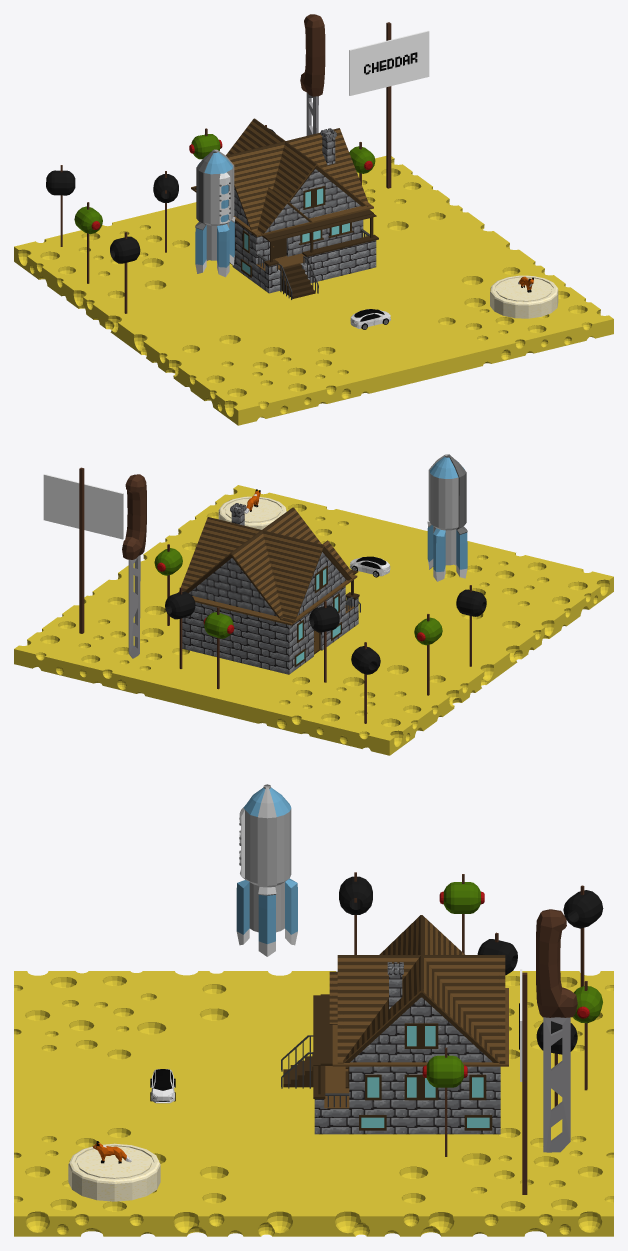
3 views of the same model, one above another, from view 1: azimuth 30°, elevation 25°; view 2: azimuth 150°, elevation 25°; view 3: azimuth 270°, elevation 25° (orthographic). The views are drawn at different scales.
Parts seen in each view (by area): view 1: Cube.022, Cube.586, Cube.023, OBJRANDOM_ROCKETSHIP, Cylinder.016, Cube.024, Sphere.017, Sphere.016, Sphere.018, Sphere.020, VEHICLES_TESLA, Sphere.022 (+1 smaller); view 2: Cube.022, Cube.586, Cube.023, OBJRANDOM_ROCKETSHIP, Cube.024, Cylinder.016, Sphere.021, Sphere.017, Sphere.020, Sphere.016, Sphere.022, Sphere.018 (+2 smaller); view 3: Cube.022, Cube.586, OBJRANDOM_ROCKETSHIP, Cube.024, Cylinder.016, Cube.023, Sphere.016, Sphere.019, Sphere.018, Sphere.017, Sphere.022, VEHICLES_TESLA (+2 smaller).
Boxes of the visible parts, x1,y1,x2,y2 form: Cube.022: [14, 156, 613, 425]; Cube.586: [191, 118, 378, 299]; Cube.023: [349, 22, 429, 188]; OBJRANDOM_ROCKETSHIP: [195, 149, 235, 277]; Cylinder.016: [490, 275, 558, 318]; Cube.024: [300, 14, 325, 135]; Sphere.017: [110, 232, 140, 313]; Sphere.016: [46, 165, 75, 246]; Sphere.018: [74, 202, 102, 283]; Sphere.020: [153, 171, 178, 252]; VEHICLES_TESLA: [350, 309, 390, 329]; Sphere.022: [189, 128, 222, 159]; Cube.022: [14, 485, 613, 755]; Cube.586: [178, 503, 360, 674]; Cube.023: [43, 467, 123, 633]; OBJRANDOM_ROCKETSHIP: [427, 454, 467, 581]; Cube.024: [122, 474, 146, 658]; Cylinder.016: [218, 496, 286, 529]; Sphere.021: [165, 587, 195, 668]; Sphere.017: [456, 585, 486, 666]; Sphere.020: [309, 601, 339, 682]; Sphere.016: [351, 642, 380, 723]; Sphere.022: [203, 607, 234, 689]; Sphere.018: [414, 614, 442, 695]; Cube.022: [14, 971, 613, 1236]; Cube.586: [281, 915, 508, 1134]; OBJRANDOM_ROCKETSHIP: [236, 784, 297, 956]; Cube.024: [536, 909, 577, 1152]; Cylinder.016: [68, 1143, 160, 1201]; Cube.023: [519, 969, 527, 1194]; Sphere.016: [563, 885, 603, 986]; Sphere.019: [422, 1047, 467, 1156]; Sphere.018: [439, 874, 484, 953]; Sphere.017: [339, 872, 372, 954]; Sphere.022: [573, 981, 602, 1090]; VEHICLES_TESLA: [150, 1069, 175, 1103].
Bounding box in the file's own units: 3917 × 2007 × 4000.
Materials: 37 (4 with a texture image).
